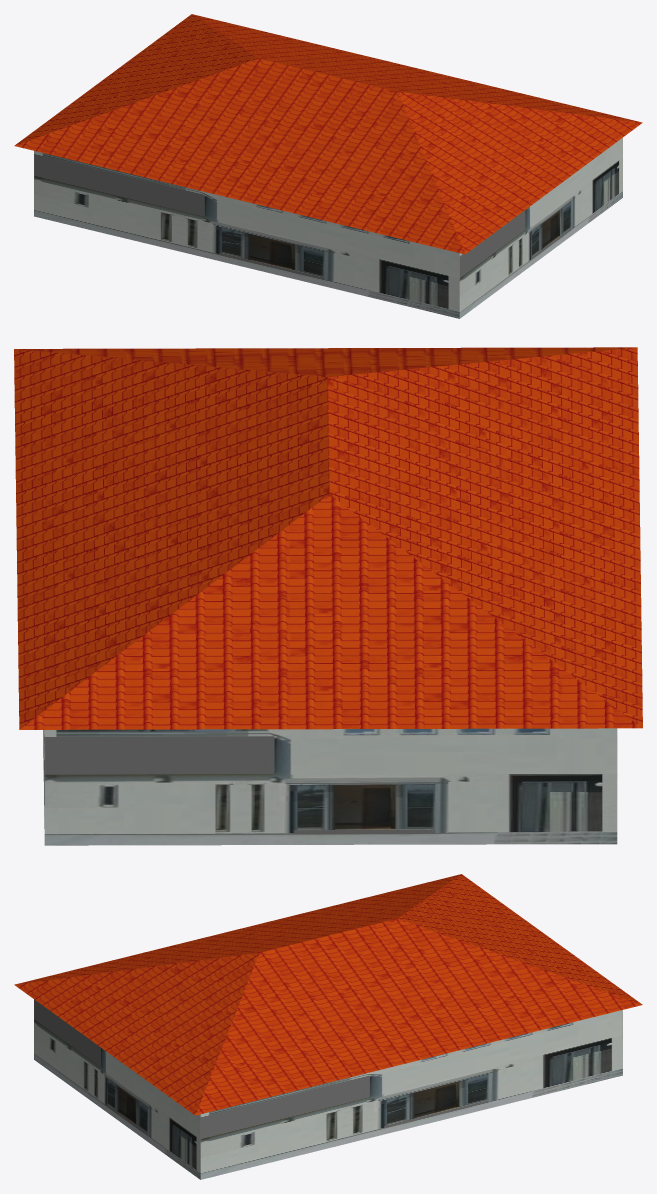
3 renders of one model, top to bottom at view 1: azimuth 30°, elevation 25°; view 2: azimuth 150°, elevation 25°; view 3: azimuth 270°, elevation 25°, orthographic. The views are drawn at different scales.
Parts seen in each view (by area): view 1: CityEngineMaterial_12_m, CityEngineMaterial_11_m; view 2: CityEngineMaterial_12_m, CityEngineMaterial_11_m; view 3: CityEngineMaterial_12_m, CityEngineMaterial_11_m.
Part boxes in pixels (<box>): CityEngineMaterial_12_m: <box>14,14,642,254</box>; CityEngineMaterial_11_m: <box>34,138,622,318</box>; CityEngineMaterial_12_m: <box>14,347,642,729</box>; CityEngineMaterial_11_m: <box>43,728,617,845</box>; CityEngineMaterial_12_m: <box>14,874,642,1115</box>; CityEngineMaterial_11_m: <box>34,999,622,1179</box>.
Size of the model in its own units: 36.58 by 9.32 by 40.24.
